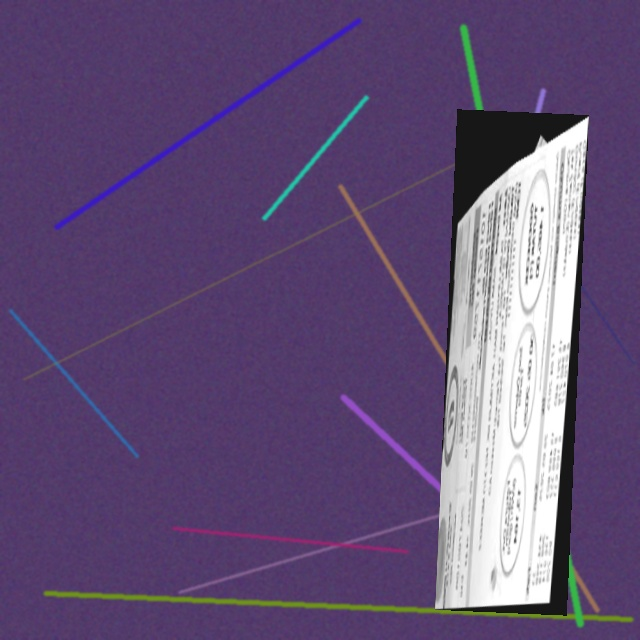electricity-bill: (435, 108, 589, 616)
